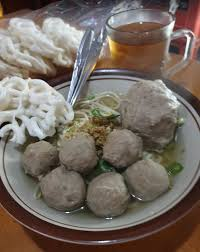bakso: (25, 85, 189, 225)
